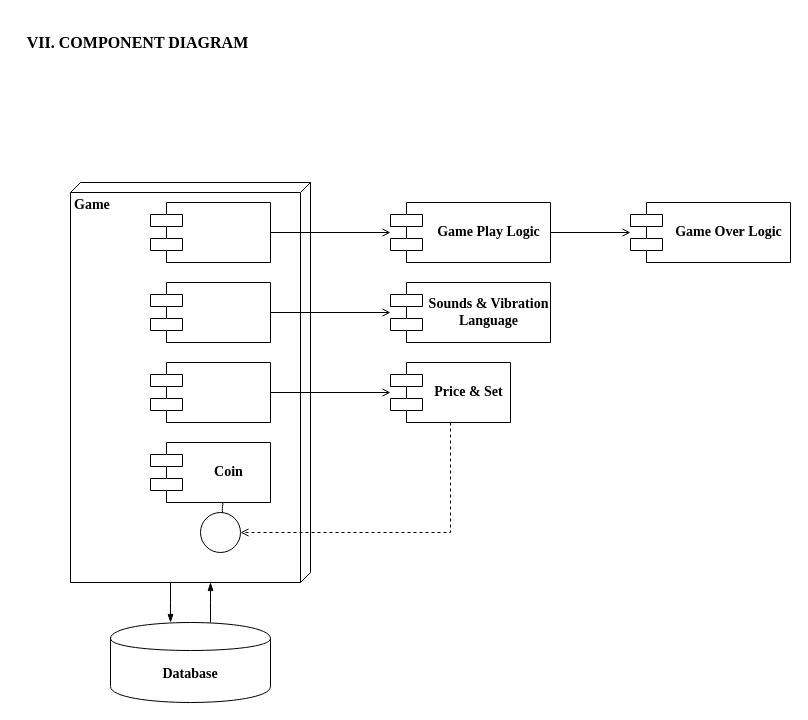
This 808x720 diagram has some shape labels left out. The centre of each missing label's shape, as x and y in pixels:
"Pizza" belongs at point (210, 392).
"Play Game" belongs at point (210, 232).
"Setting" belongs at point (210, 312).
